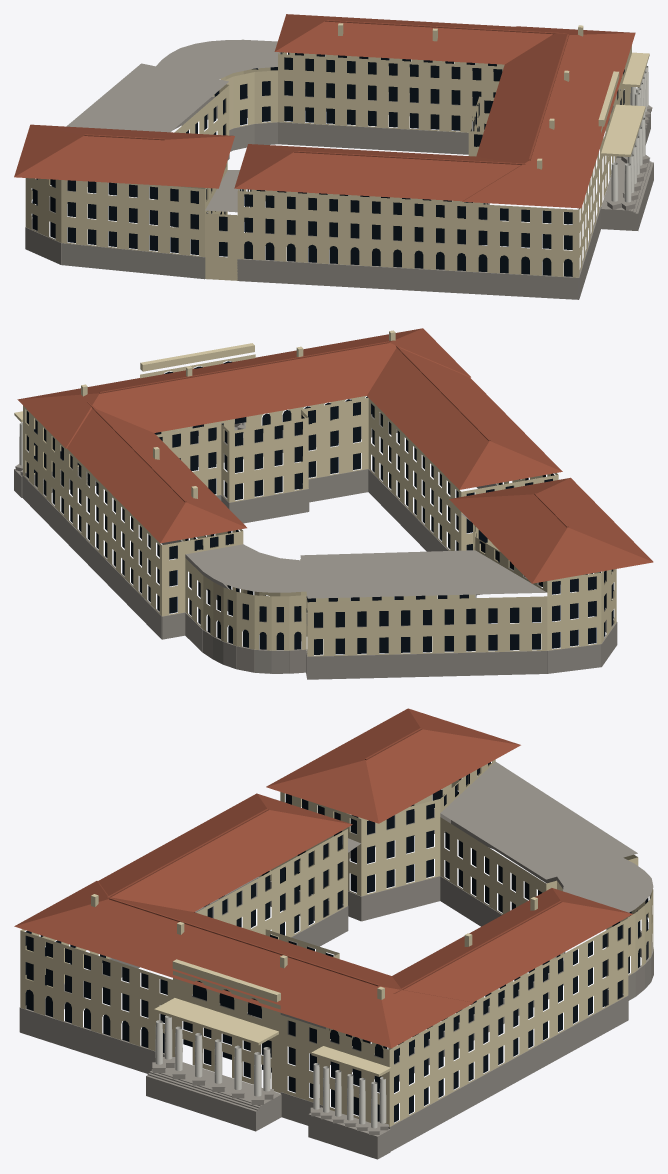
File: hotel_sevastopol.lod.glb
3 views of the same model, one above another, from view 1: azimuth 30°, elevation 25°; view 2: azimuth 150°, elevation 25°; view 3: azimuth 270°, elevation 25° (orthographic). The views are drawn at different scales.
Parts seen in each view (by area): view 1: hotel_sevastopol_roof, hotel_sevastopol_wall, hotel_sevastopol_stone, hotel_sevastopol_glass, hotel_sevastopol_trim_s; view 2: hotel_sevastopol_roof, hotel_sevastopol_wall, hotel_sevastopol_stone, hotel_sevastopol_glass; view 3: hotel_sevastopol_roof, hotel_sevastopol_wall, hotel_sevastopol_stone, hotel_sevastopol_glass, hotel_sevastopol_trim_s.
Boxes of the visible parts, <box> form: hotel_sevastopol_roof: <box>14,14,635,208</box>; hotel_sevastopol_wall: <box>25,23,649,280</box>; hotel_sevastopol_stone: <box>25,39,653,299</box>; hotel_sevastopol_glass: <box>32,52,624,276</box>; hotel_sevastopol_trim_s: <box>611,65,648,202</box>; hotel_sevastopol_roof: <box>17,328,653,583</box>; hotel_sevastopol_wall: <box>14,330,616,656</box>; hotel_sevastopol_stone: <box>14,412,617,679</box>; hotel_sevastopol_glass: <box>26,361,613,654</box>; hotel_sevastopol_roof: <box>14,708,632,1048</box>; hotel_sevastopol_wall: <box>20,759,653,1126</box>; hotel_sevastopol_stone: <box>19,761,653,1159</box>; hotel_sevastopol_glass: <box>25,762,650,1122</box>; hotel_sevastopol_trim_s: <box>155,1015,386,1128</box>.
Size of the model in its own units: 113 by 20.4 by 88.72.
